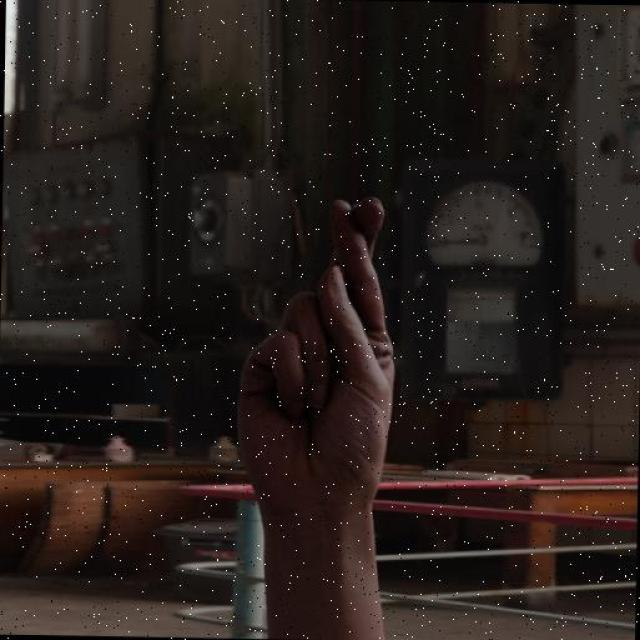R: (231, 189, 400, 506)
